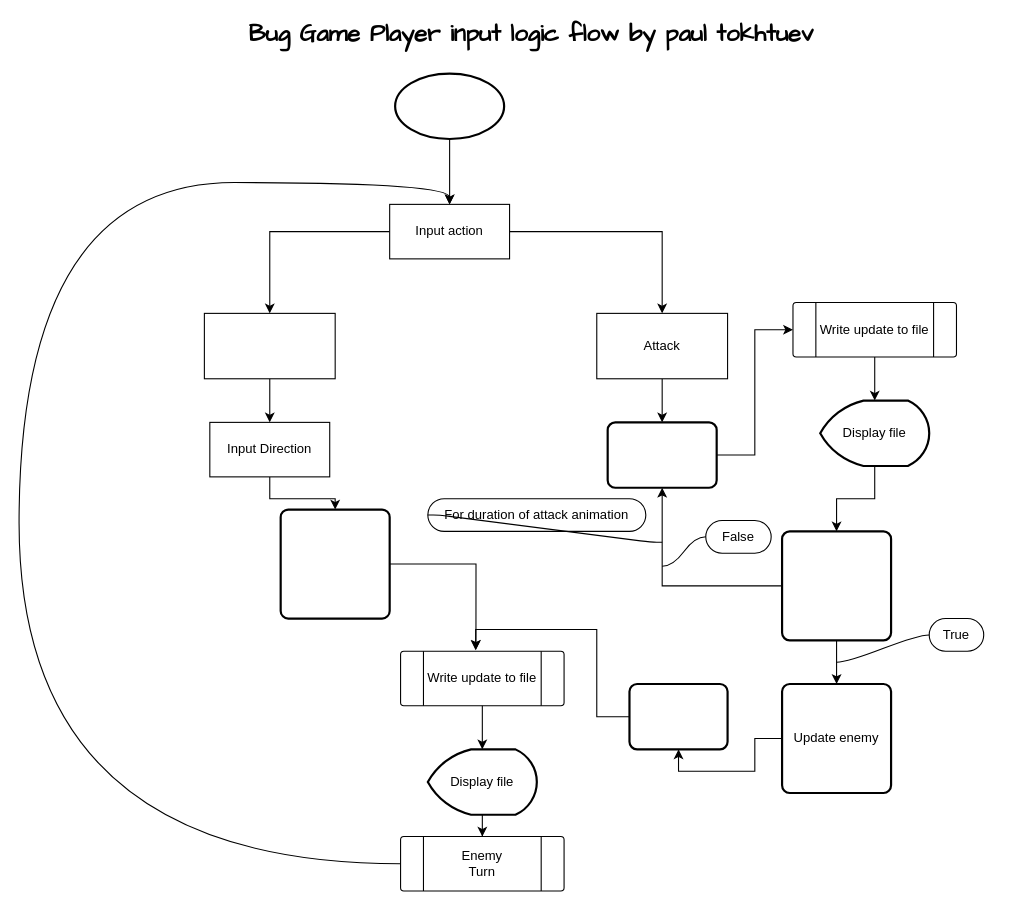
The diagram is 1019 pixels wide and 910 high, and some of its shapes have lost their labels. Here are the shapes that lost their labels. From the top down, the centre of each, then its label:
At (x=449, y=106): "Start".
At (x=269, y=345): "Move".
At (x=661, y=454): "Display Attack".
At (x=334, y=563): "Update position".
At (x=836, y=585): "Hit detection".
At (x=678, y=716): "Delete Attack".
